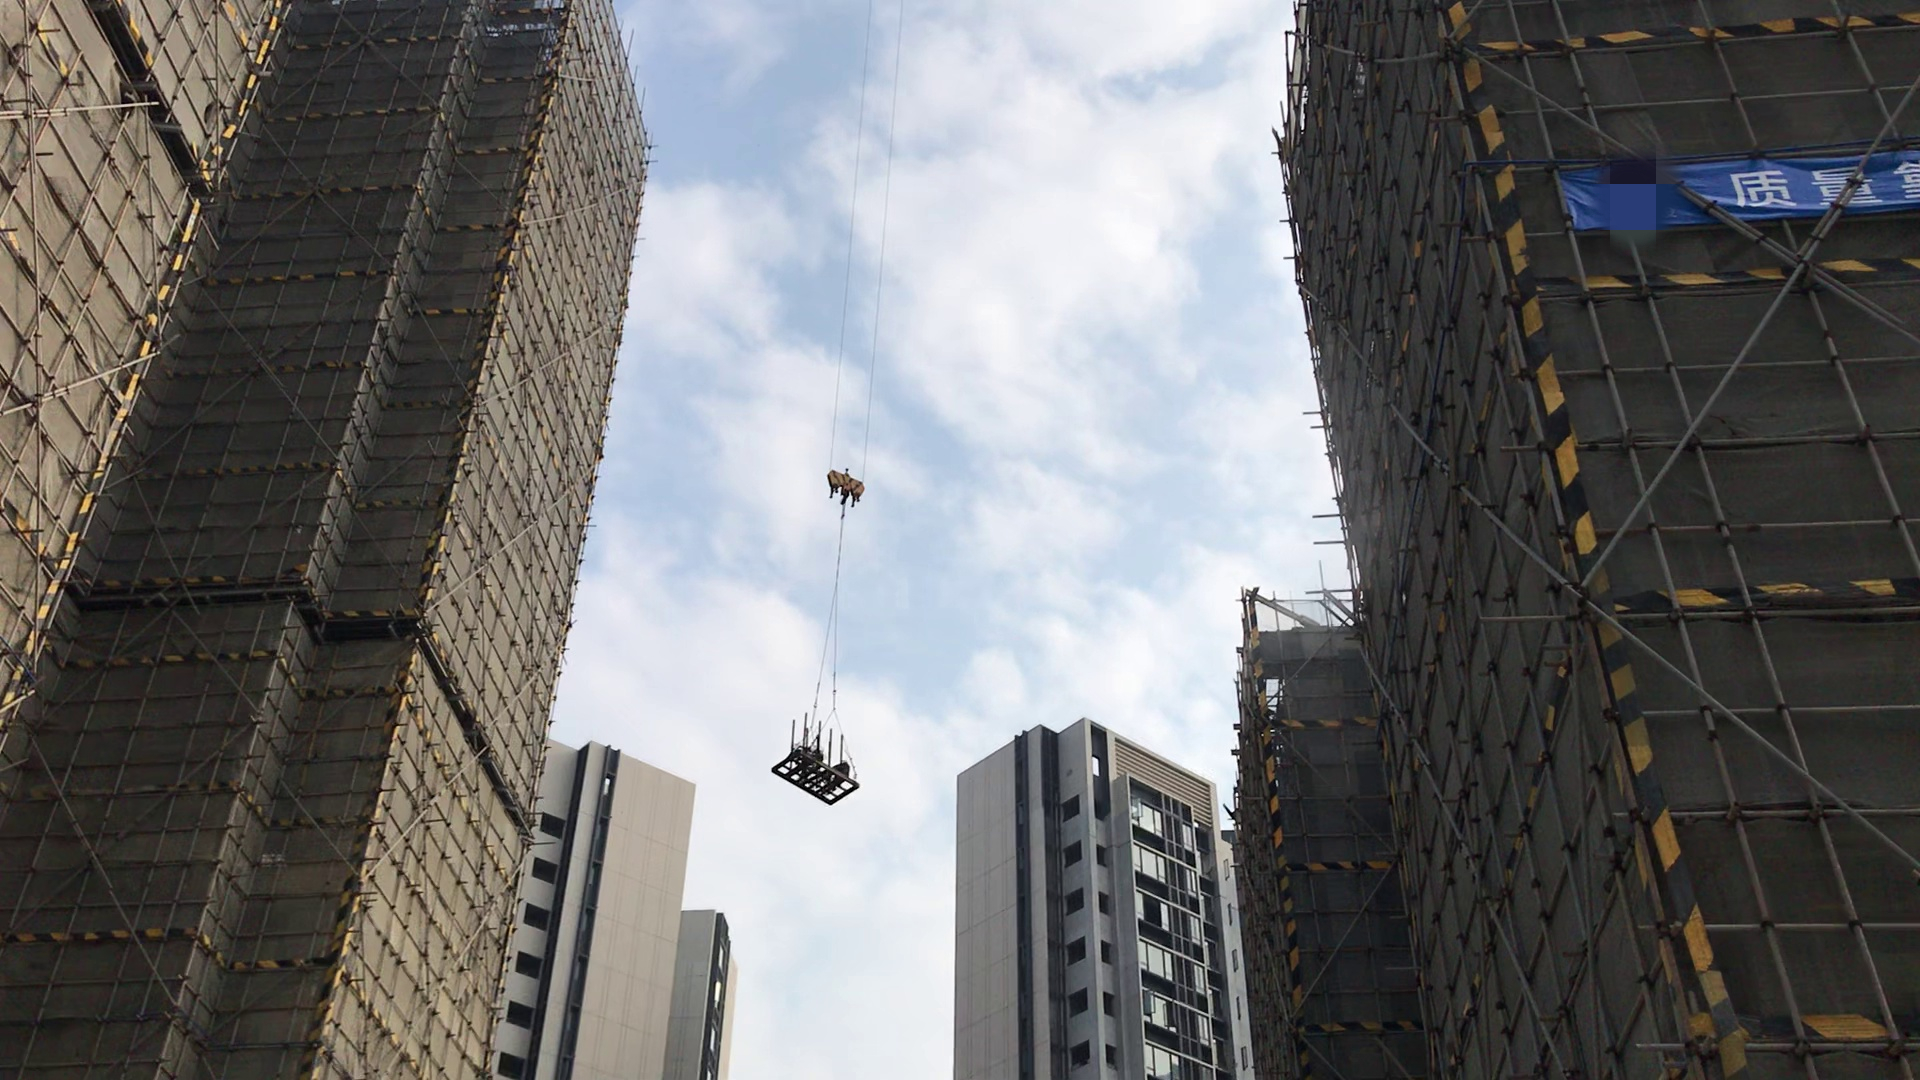hook: (822, 440, 877, 517)
slogan: (1580, 124, 1920, 252)
